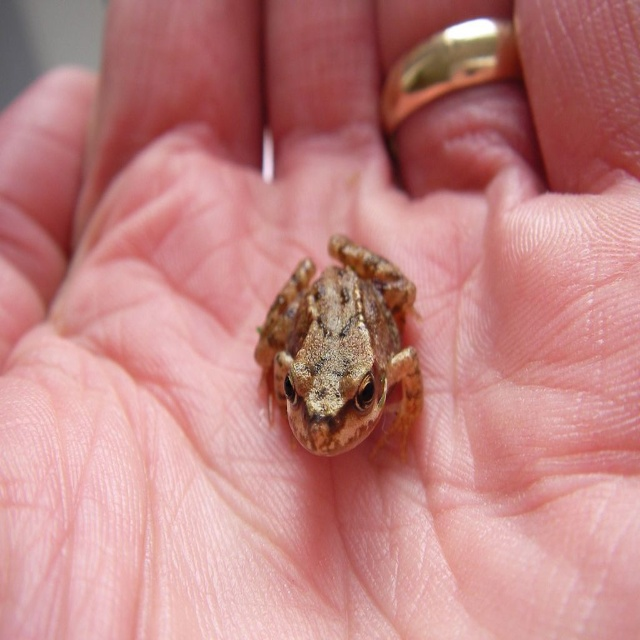Frog: (254, 234, 425, 463)
